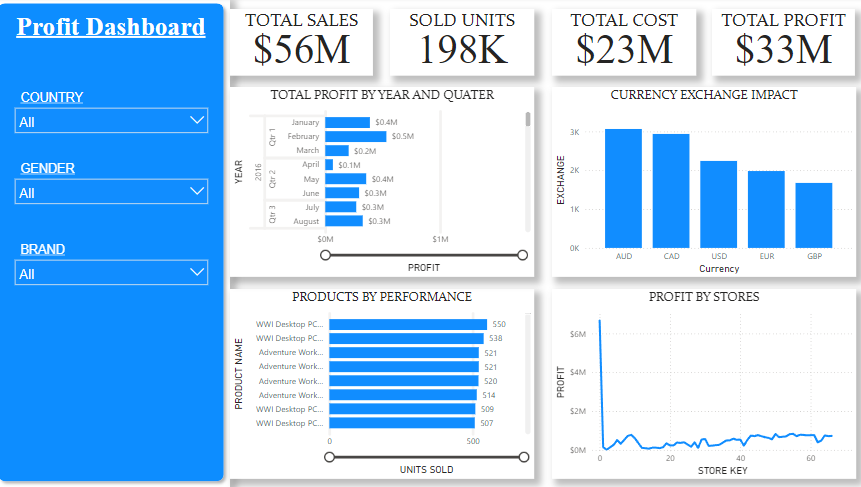

What the dashboard file says about the page in this screenshot:
{"tool":"powerbi","page":{"name":"SALES DASHBOARD","canvas":[1280,720],"ordinal":0},"visuals":[{"type":"shape","box":[0,0,349.4,720.6],"z":0},{"type":"textbox","box":[0,16.8,349.4,79],"z":1000},{"type":"slicer","fields":{"Values":["data_spark customer.Country"]},"box":[24.2,153.5,303.6,70.7],"z":2000},{"type":"slicer","fields":{"Values":["data_spark customer.Gender"]},"box":[24.2,257,303.6,70.7],"z":3000},{"type":"card","title":"TOTAL SALES","fields":{"Values":["Sum(data_spark sales.Amount)"]},"box":[350.2,17.3,210.5,98.3],"z":4000},{"type":"slicer","fields":{"Values":["data_spark product.Brand"]},"box":[24.2,376.1,303.6,72.5],"z":5000},{"type":"card","title":"SOLD UNITS","fields":{"Values":["data_spark sales.TOTAL QTY"]},"box":[584.8,17.3,212.2,98.3],"z":6000},{"type":"card","title":"TOTAL COST","fields":{"Values":["data_spark sales.COST_m"]},"box":[822.9,17.3,212.2,98.3],"z":7000},{"type":"card","title":"TOTAL PROFIT","fields":{"Values":["data_spark sales.PROFIT"]},"box":[1057.5,17.3,210.5,98.3],"z":8000},{"type":"barChart","title":"PRODUCTS BY PERFORMANCE","fields":{"Category":["data_spark product.Product_name"],"Y":["data_spark sales.TOTAL QTY"]},"box":[350.2,429.5,446.8,279.5],"z":9000},{"type":"columnChart","title":"CURRENCY EXCHANGE IMPACT","fields":{"Category":["data_spark exchange_rates.Currency"],"Y":["Sum(data_spark exchange_rates.Exchange)"]},"box":[822.9,132.8,446.8,279.5],"z":10000},{"type":"textbox","box":[36.2,132.8,360.5,41.4],"z":11000},{"type":"barChart","title":"TOTAL PROFIT BY YEAR AND QUATER","fields":{"Category":["data_spark sales.Order_date.Variation.Date Hierarchy.Year","data_spark sales.Order_date.Variation.Date Hierarchy.Quarter","data_spark sales.Order_date.Variation.Date Hierarchy.Month","data_spark sales.Order_date.Variation.Date Hierarchy.Day"],"Y":["data_spark sales.PROFIT"]},"box":[350.2,132.8,446.8,279.5],"z":12000},{"type":"lineChart","title":"PROFIT BY STORES","fields":{"Category":["data_spark stores.Store_key"],"Y":["data_spark sales.PROFIT"]},"box":[822.9,429.5,446.8,279.5],"z":13000},{"type":"textbox","box":[36.2,236.3,360.5,41.4],"z":14000},{"type":"textbox","box":[36.2,355.4,360.5,41.4],"z":15000}]}

Visuals, with their boxes in screenshot pixels (x1, y1, x2, y2), scaled from the page's 1280x720 canvas onto the 861x487 screenshot:
shape: (0, 0, 235, 486)
textbox: (0, 11, 235, 65)
slicer - data_spark customer.Country: (16, 104, 220, 152)
slicer - data_spark customer.Gender: (16, 174, 220, 222)
"TOTAL SALES" card: (236, 12, 377, 78)
slicer - data_spark product.Brand: (16, 254, 220, 303)
"SOLD UNITS" card: (393, 12, 536, 78)
"TOTAL COST" card: (554, 12, 696, 78)
"TOTAL PROFIT" card: (711, 12, 853, 78)
"PRODUCTS BY PERFORMANCE" barChart: (236, 291, 536, 480)
"CURRENCY EXCHANGE IMPACT" columnChart: (554, 90, 854, 279)
textbox: (24, 90, 267, 118)
"TOTAL PROFIT BY YEAR AND QUATER" barChart: (236, 90, 536, 279)
"PROFIT BY STORES" lineChart: (554, 291, 854, 480)
textbox: (24, 160, 267, 188)
textbox: (24, 240, 267, 268)
